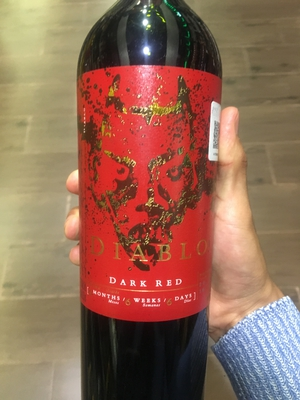diablo dark red: (74, 16, 233, 387)
